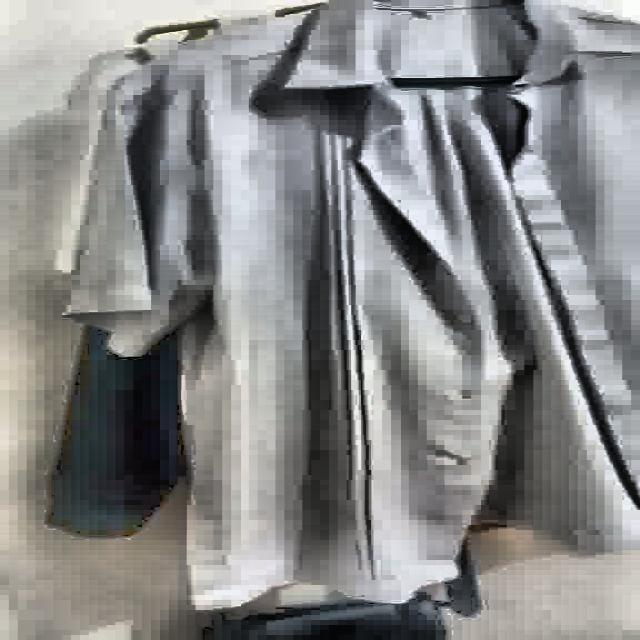clothes: (61, 0, 634, 623)
